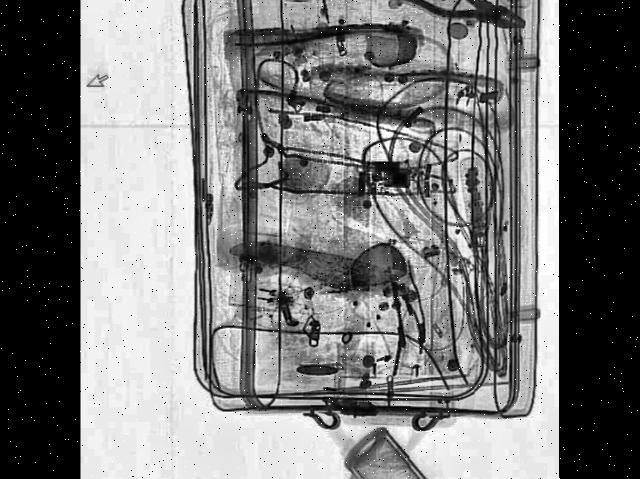Pliers: (396, 0, 529, 43)
